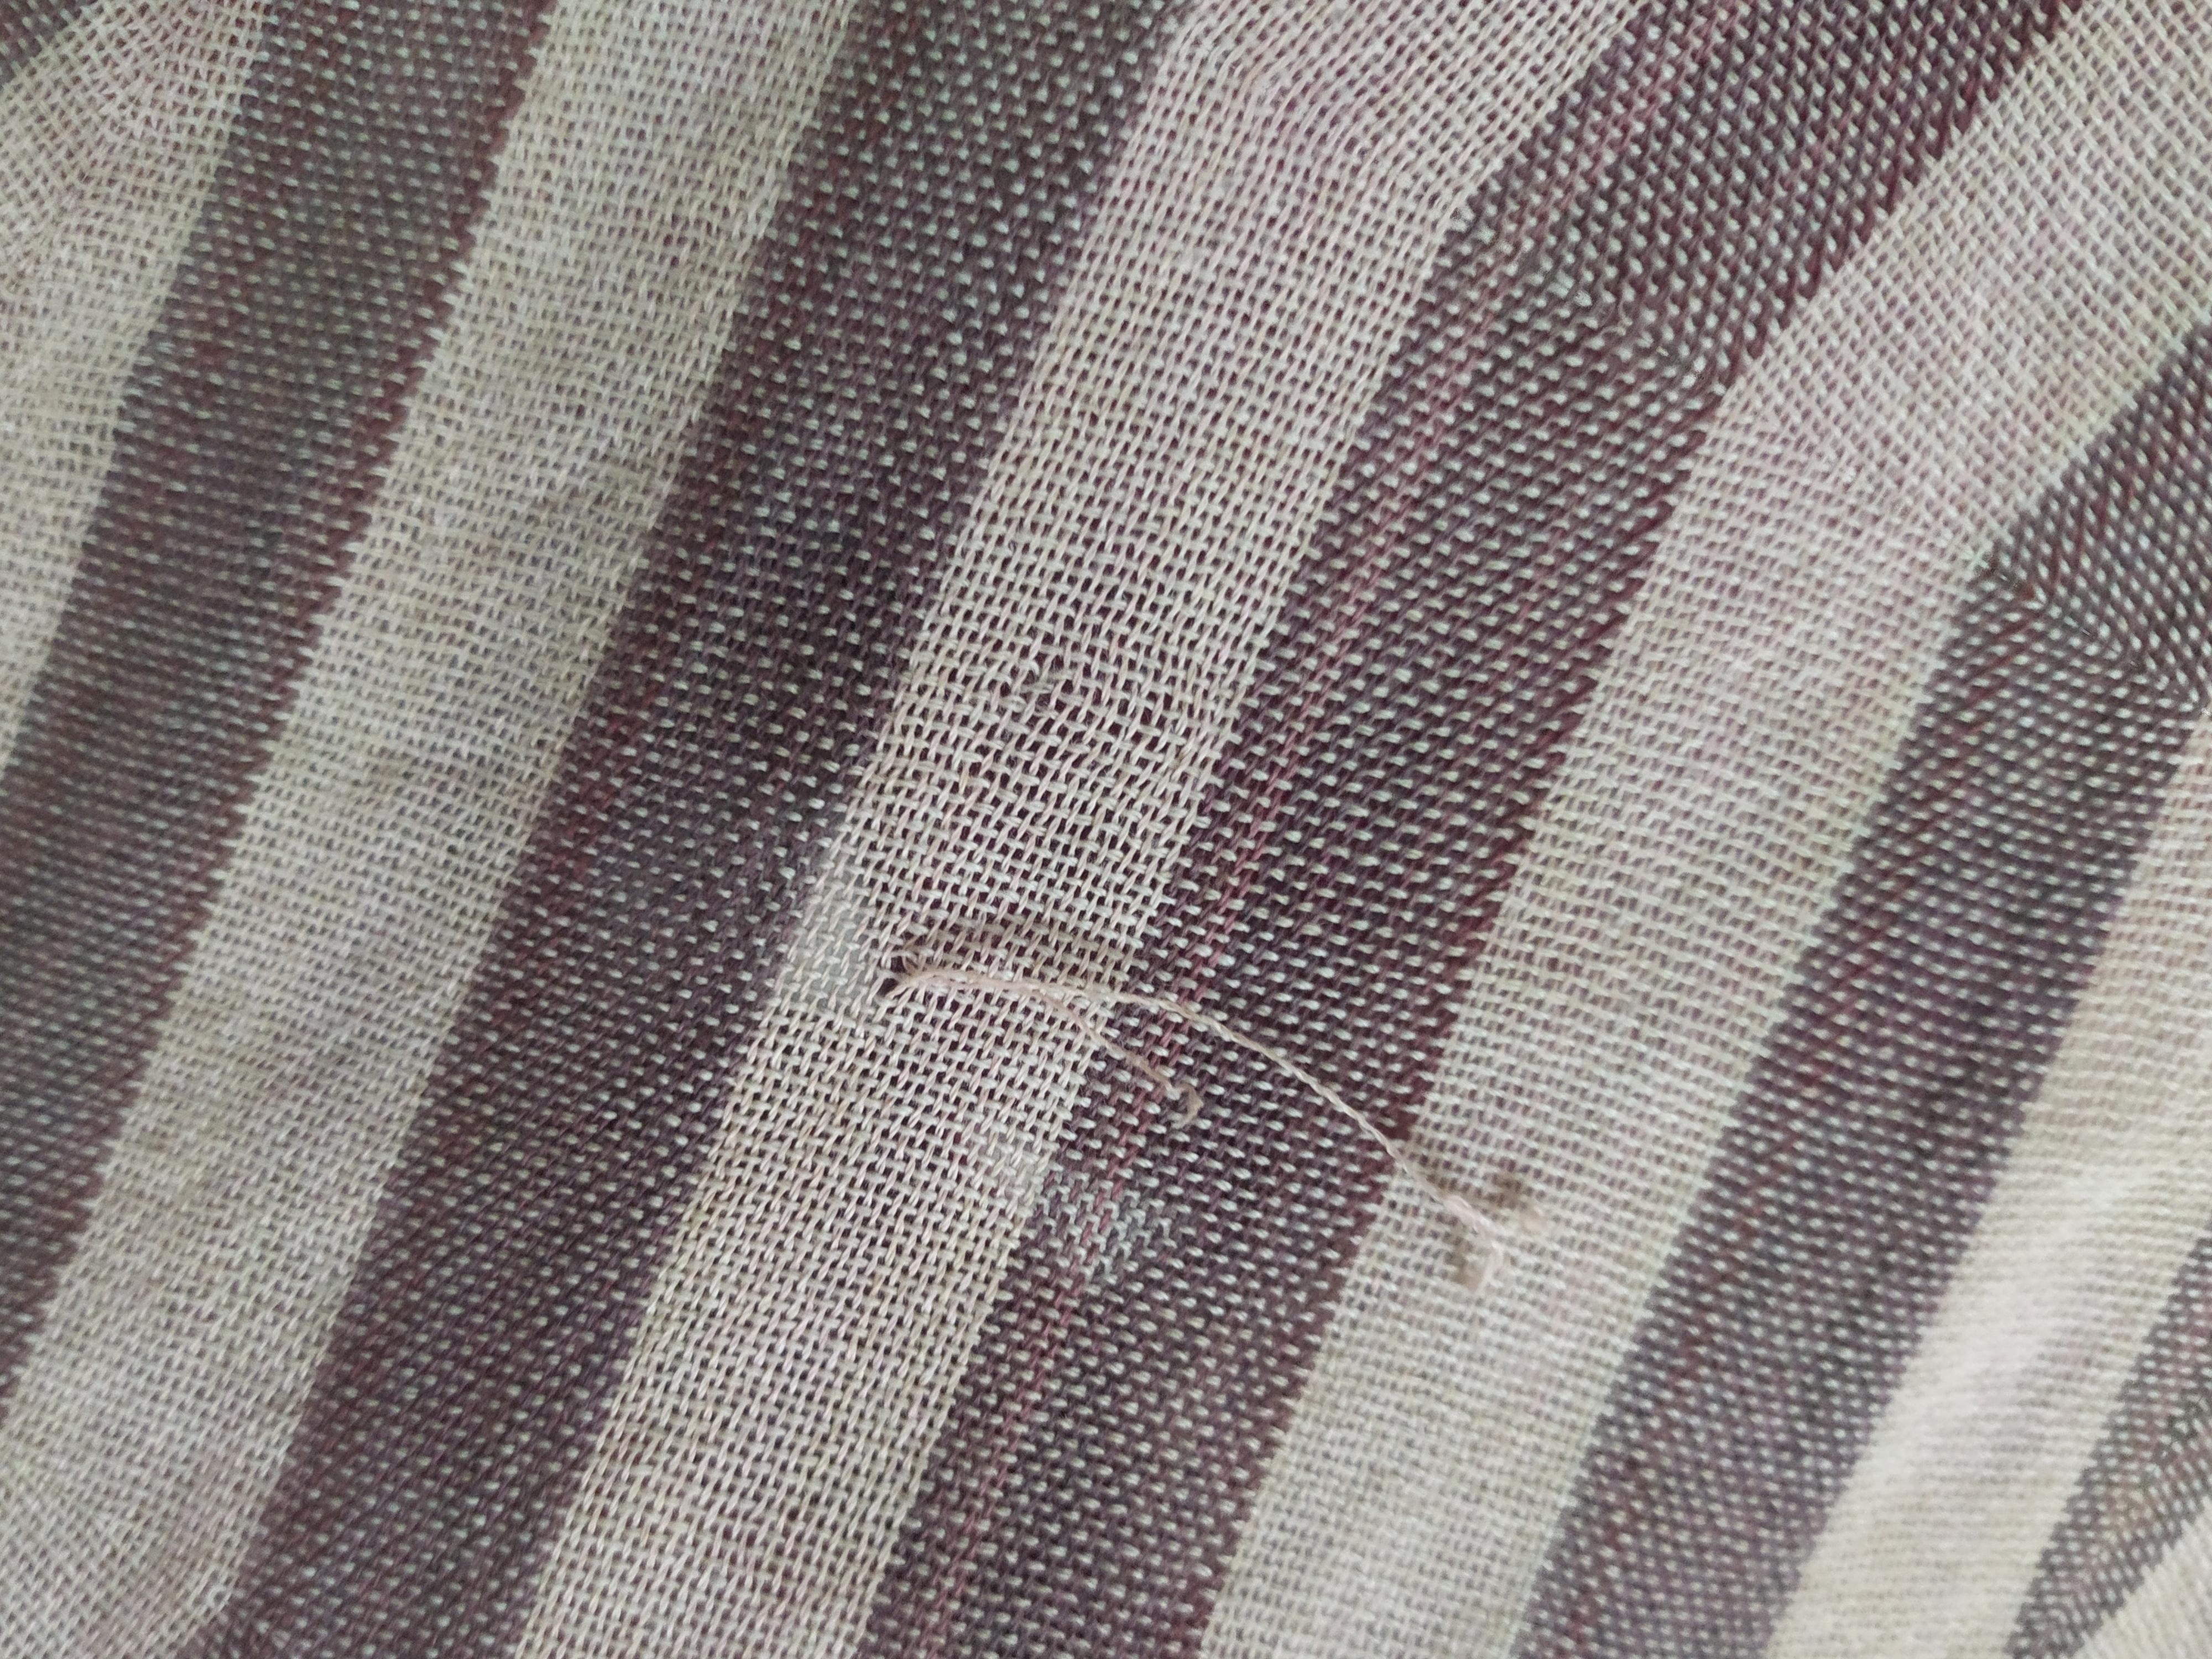snag: (834, 910, 1548, 1297)
